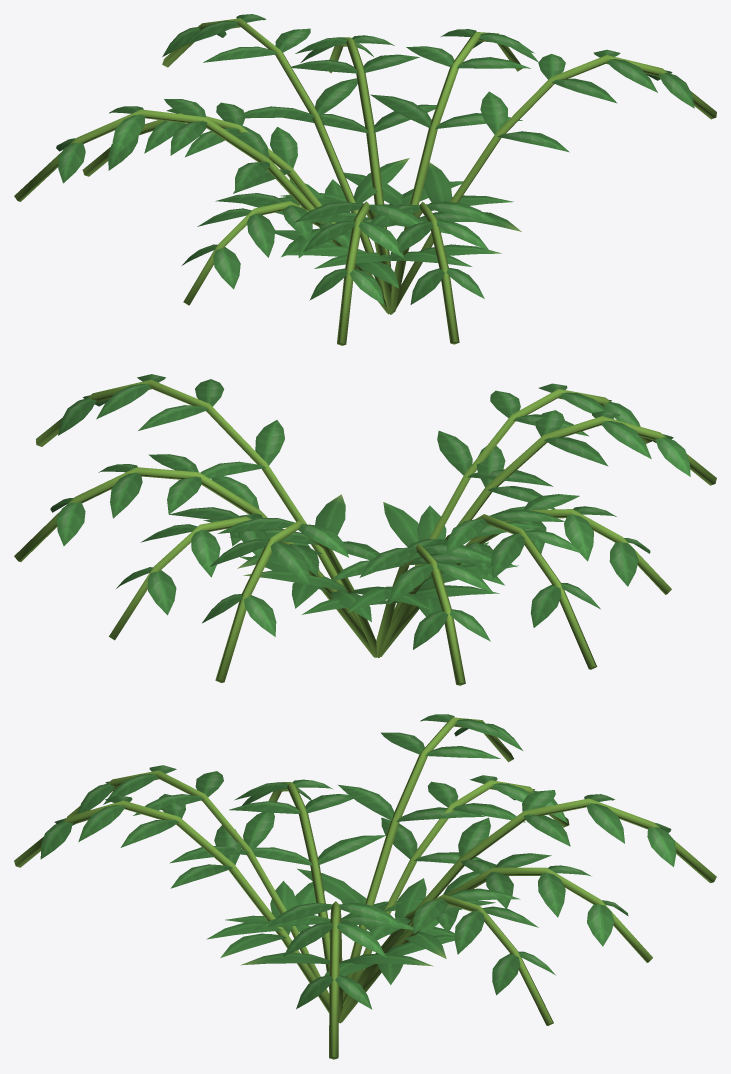
The model's file is fern_a.glb.
3 renders of one model, top to bottom at view 1: azimuth 30°, elevation 25°; view 2: azimuth 150°, elevation 25°; view 3: azimuth 270°, elevation 25°, orthographic. The views are drawn at different scales.
Visible parts, largest first — view 1: Fern_leaf; view 2: Fern_leaf; view 3: Fern_leaf.
Part boxes in pixels (box(x1,y1,x2,y2)): Fern_leaf: box(14, 14, 716, 345); Fern_leaf: box(14, 374, 716, 685); Fern_leaf: box(14, 714, 716, 1059).
Size of the model in its own units: 1.78 by 0.5812 by 1.75.
Materials: 1 (1 with a texture image).
